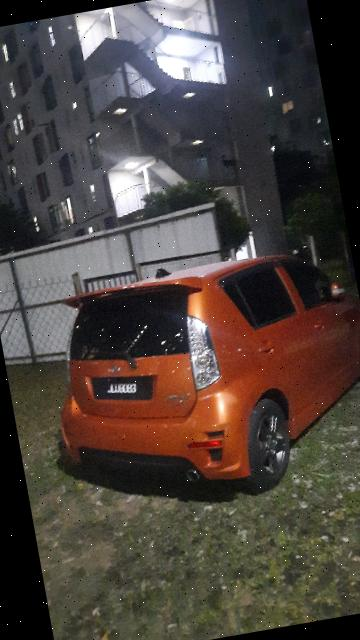License_Plate: (91, 367, 158, 411)
car: (36, 239, 360, 511)
